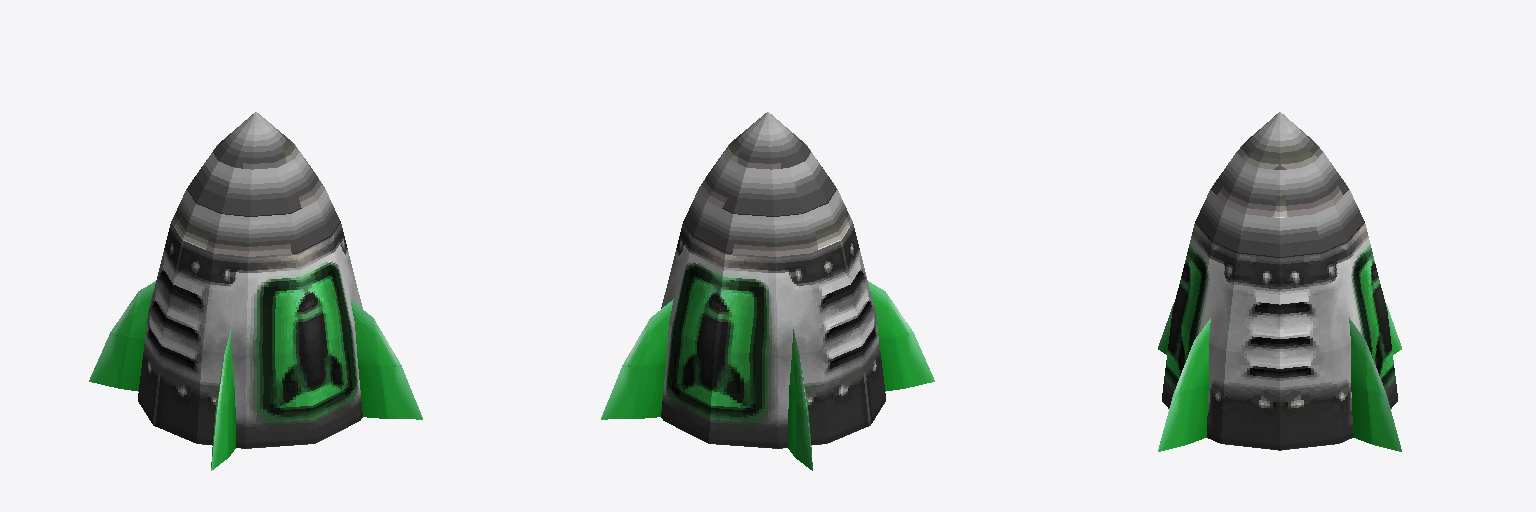
The picture shows the model from 3 angles: view 1: azimuth 30°, elevation 25°; view 2: azimuth 150°, elevation 25°; view 3: azimuth 270°, elevation 25°; orthographic projection.
Parts seen in each view (by area): view 1: Object01; view 2: Object01; view 3: Object01.
Boxes of the visible parts, <box> form: Object01: <box>89,112,422,470</box>; Object01: <box>601,112,934,470</box>; Object01: <box>1158,112,1401,451</box>.
Bounding box in the file's own units: 18.43 × 24 × 18.43.
Materials: 1 (1 with a texture image).